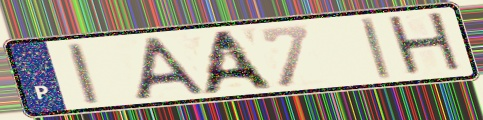7: (257, 22, 315, 88)
A: (196, 28, 279, 97), (132, 34, 210, 102)
H: (383, 9, 467, 80)
I: (63, 41, 104, 107), (357, 15, 395, 82)
